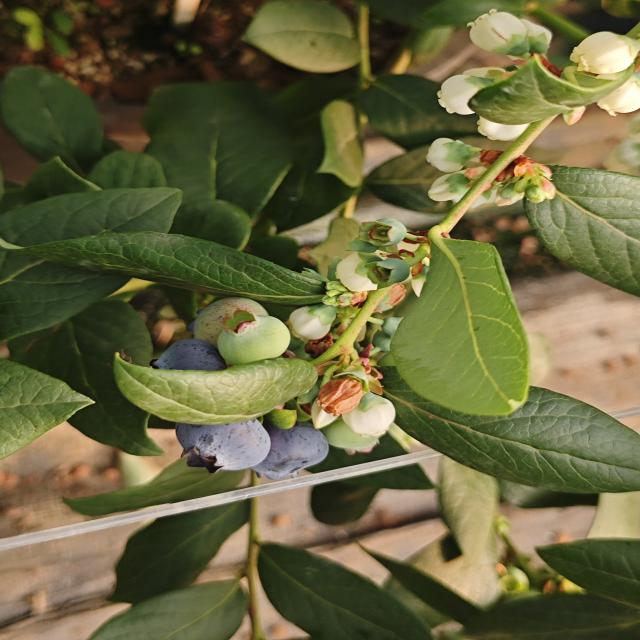ripe: (171, 414, 273, 476), (254, 422, 335, 479), (139, 332, 228, 376)
